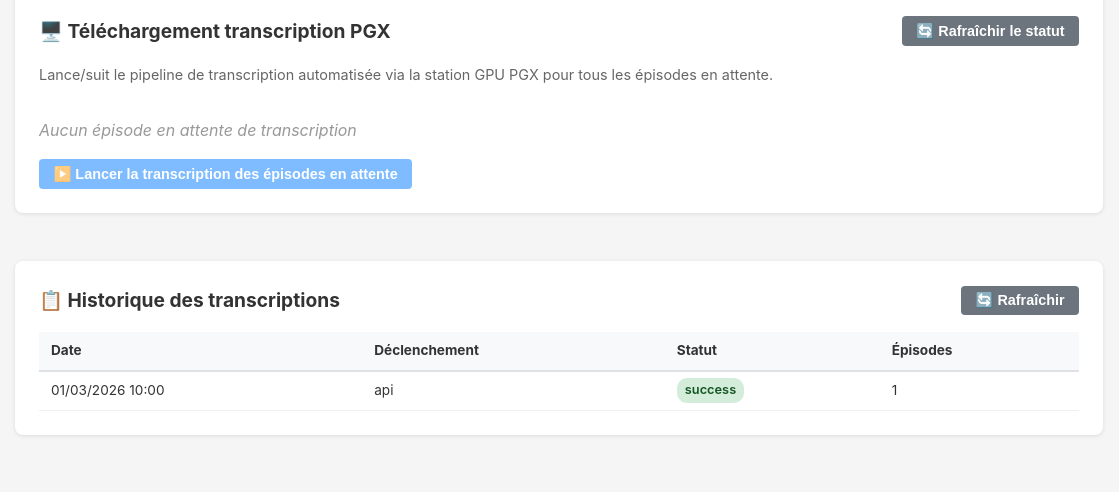
Scenario: PgxTranscription (Issue #302) › Historique (Issue #309) › affiche la date et le titre de chaque épisode du détail, comme pour l'historique RSS
This screenshot has width=1119, height=492.
Click the row "01/03/2026 10:00 api success 1". click: (559, 390)
box: [39,371,1079,410]
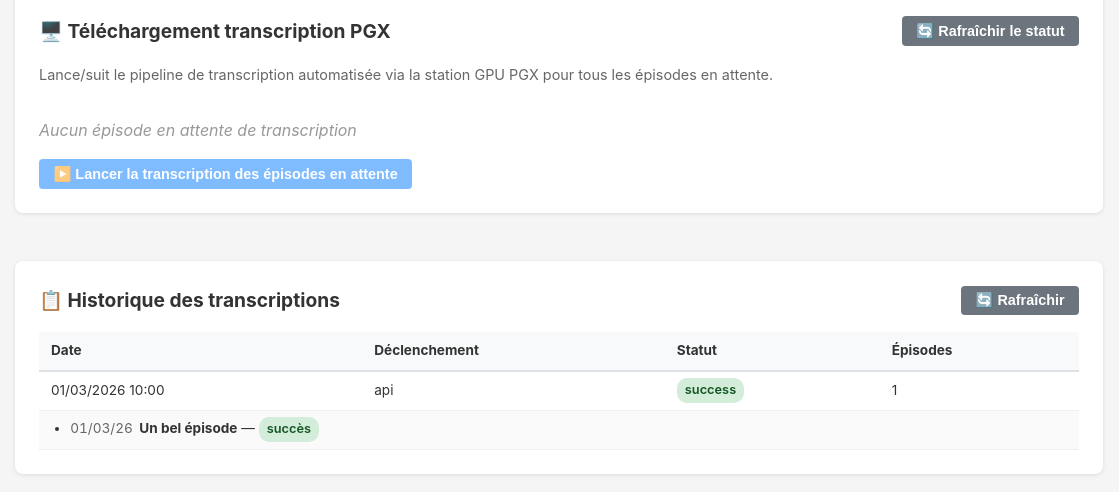
Check: the element with class "log-detail" shows "Un bel épisode", box [139,420,238,436]
Check: the element with class "log-detail" shows "01/03/26", box [70,420,133,436]
